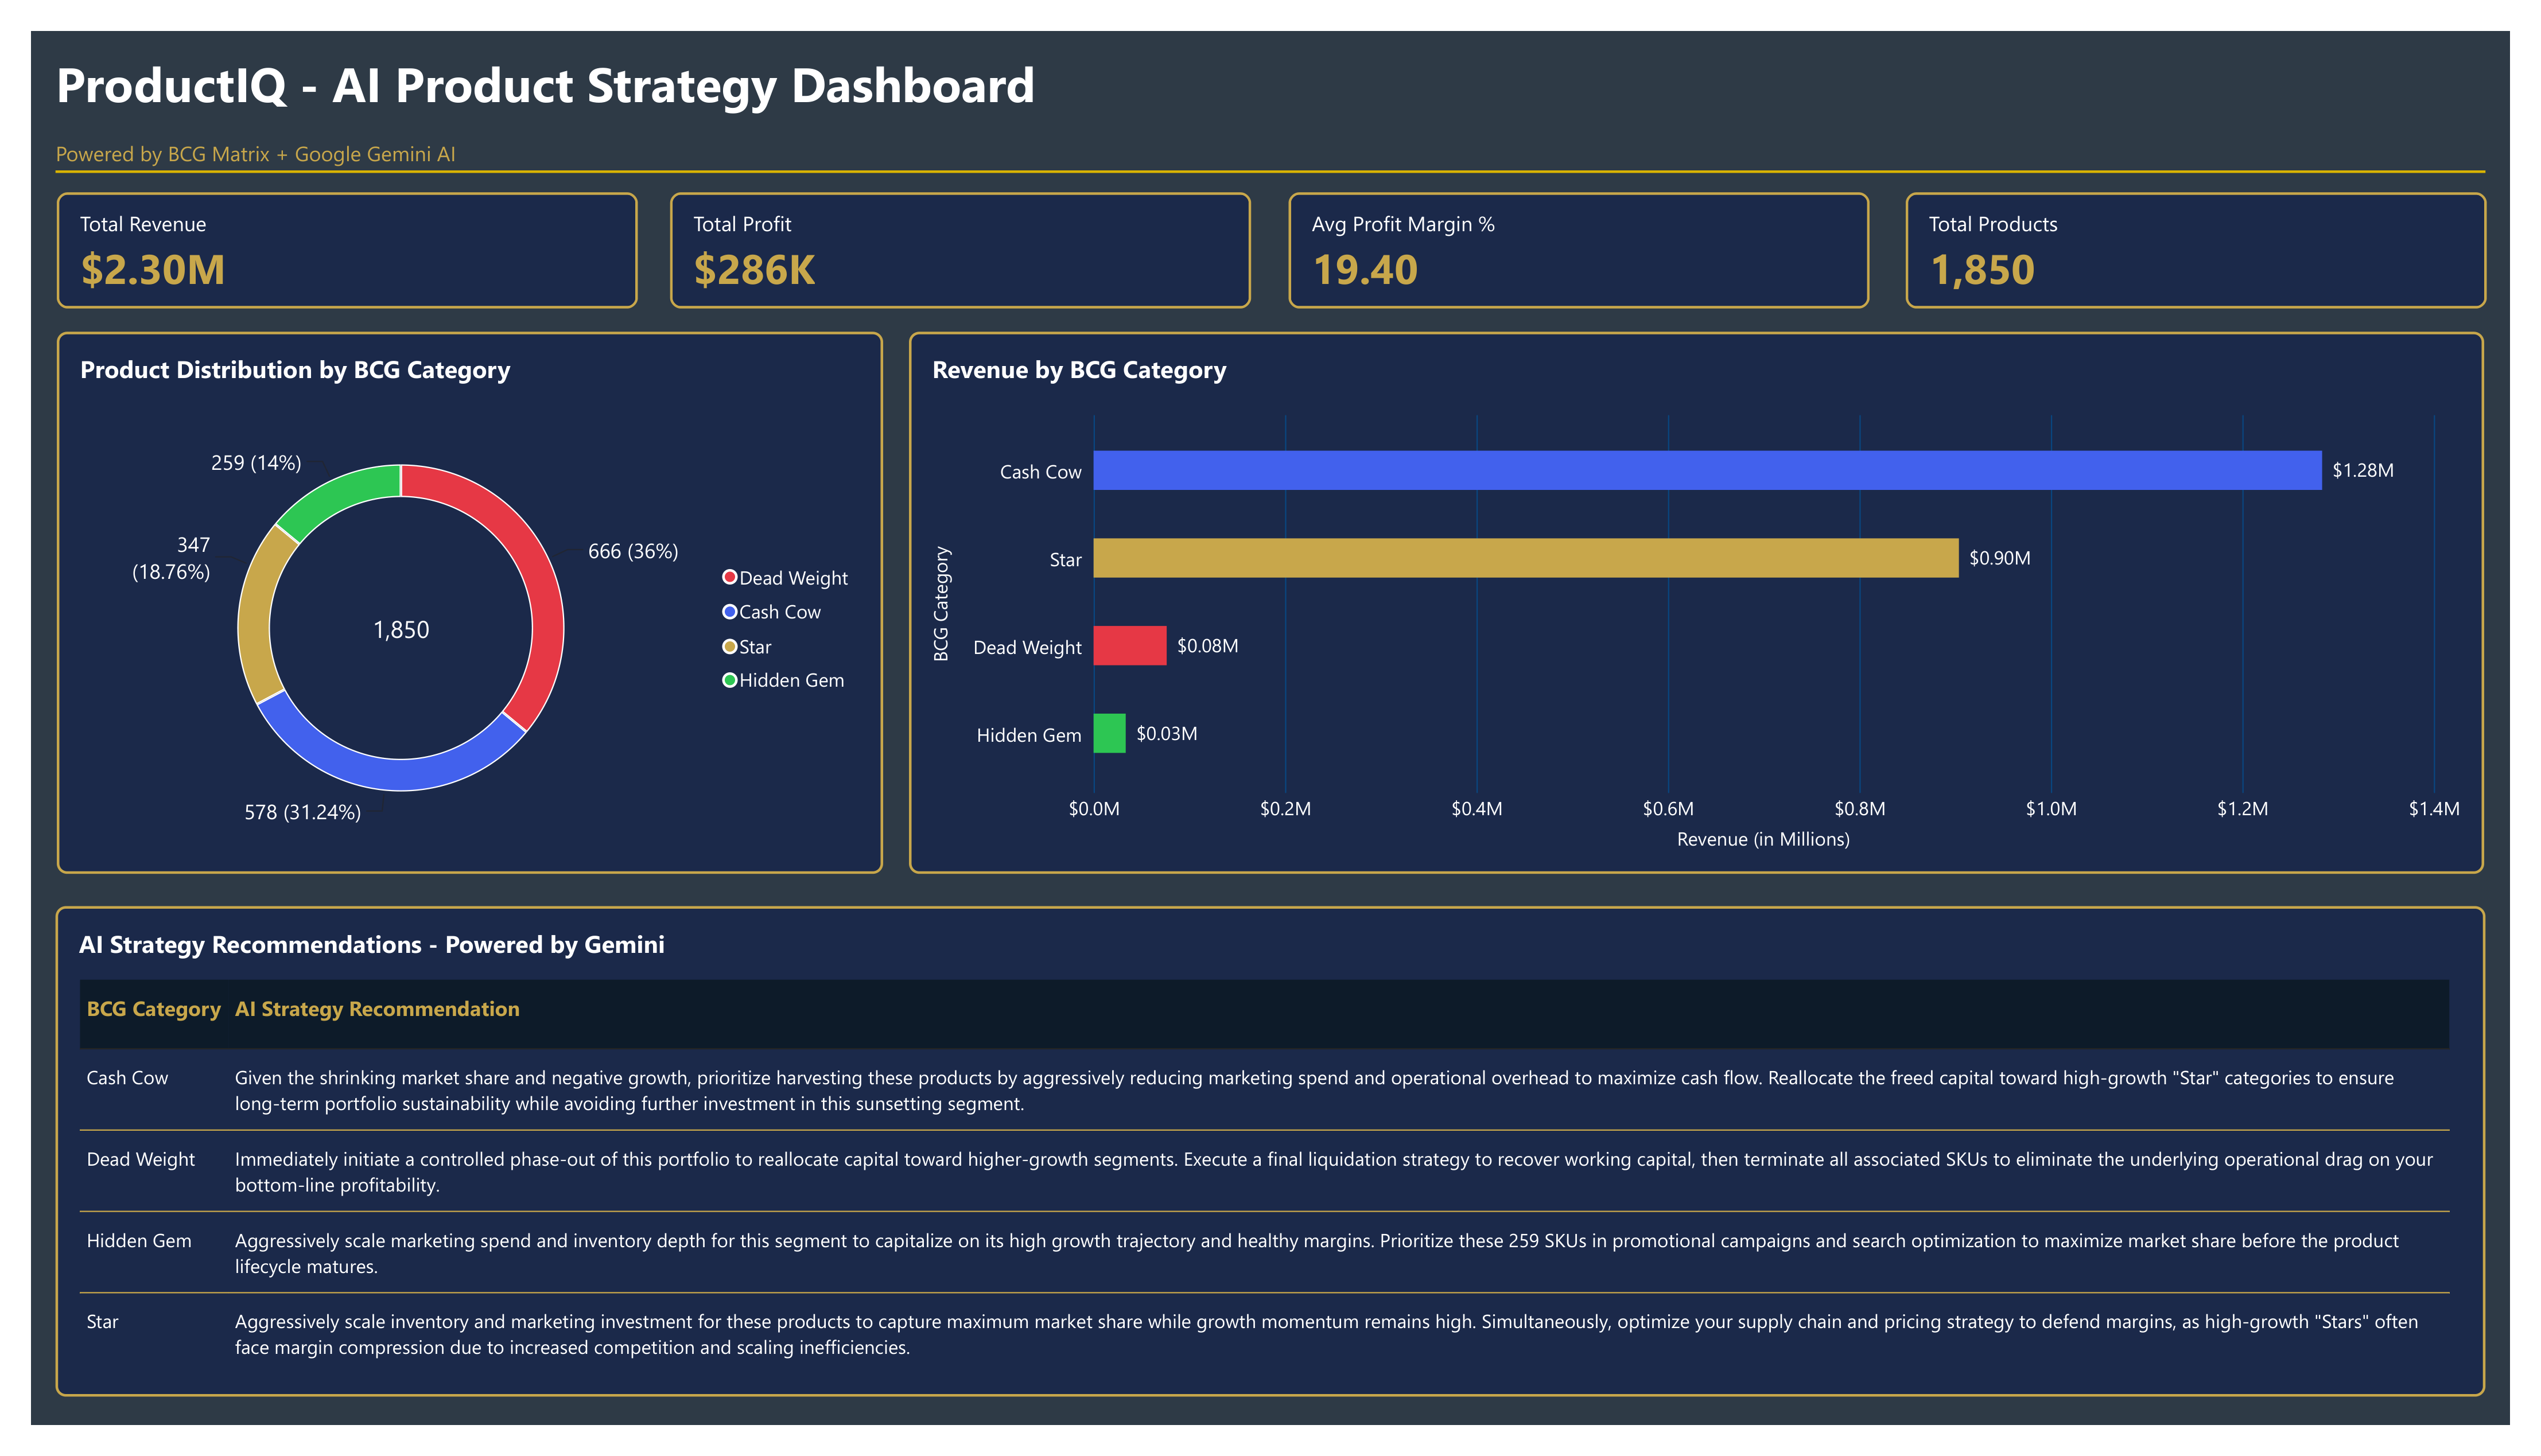

This screenshot's page, from the dashboard's own definition file:
{"tool":"powerbi","page":{"name":"Executive Overview","canvas":[1920,1080],"ordinal":0},"visuals":[{"type":"cardVisual","fields":{"Data":["Sum(productiq_db product_kpis.total_revenue)"]},"box":[20,125,450,90],"z":0},{"type":"cardVisual","fields":{"Data":["Sum(productiq_db product_kpis.total_profit)"]},"box":[494.6,125.3,450,90],"z":1000},{"type":"cardVisual","fields":{"Data":["CountNonNull(productiq_db product_kpis.product_name)"]},"box":[1451.5,125.3,450,90],"z":2000},{"type":"clusteredBarChart","title":"Revenue by BCG Category","fields":{"Category":["productiq_db product_kpis.bcg_category"],"Y":["Sum(productiq_db product_kpis.total_revenue)"]},"box":[680,233,1220,420],"z":3000},{"type":"textbox","box":[19.4,15.1,900.7,49.7],"z":4000},{"type":"tableEx","title":"AI Strategy Recommendations - Powered by Gemini","fields":{"Values":["productiq_db ai_recommendations.bcg_category","productiq_db ai_recommendations.ai_recommendation"]},"box":[19.4,678.2,1881.4,380.2],"z":5000},{"type":"cardVisual","fields":{"Data":["Avg(productiq_db product_kpis.profit_margin_pct)"]},"box":[974.2,125.3,450,90.4],"z":6000,"group":"g1"},{"type":"donutChart","title":"Product Distribution by BCG Category","fields":{"Category":["productiq_db product_kpis.bcg_category"],"Y":["CountNonNull(productiq_db product_kpis.product_name)"]},"box":[20,233,640,420],"z":6000},{"type":"group","id":"g1","title":"Group 1","box":[974.2,125.3,451.4,90.7],"z":7000},{"type":"textbox","box":[19.4,64.8,600.5,40],"z":8000},{"type":"shape","box":[19.4,103.7,1881.4,10.8],"z":9000}]}

Visuals, with their boxes in screenshot pixels (x1, y1, x2, y2), scaled from the page's 1920x1080 canvas onto the 2541x1456 screenshot:
cardVisual - Sum(productiq_db product_kpis.total_revenue): bbox=[26, 169, 622, 290]
cardVisual - Sum(productiq_db product_kpis.total_profit): bbox=[655, 169, 1250, 290]
cardVisual - CountNonNull(productiq_db product_kpis.product_name): bbox=[1921, 169, 2516, 290]
"Revenue by BCG Category" clusteredBarChart: bbox=[900, 314, 2515, 881]
textbox: bbox=[26, 20, 1218, 87]
"AI Strategy Recommendations - Powered by Gemini" tableEx: bbox=[26, 914, 2516, 1427]
cardVisual - Avg(productiq_db product_kpis.profit_margin_pct): bbox=[1289, 169, 1885, 291]
"Product Distribution by BCG Category" donutChart: bbox=[26, 314, 873, 881]
"Group 1" group: bbox=[1289, 169, 1887, 291]
textbox: bbox=[26, 87, 821, 141]
shape: bbox=[26, 140, 2516, 154]
